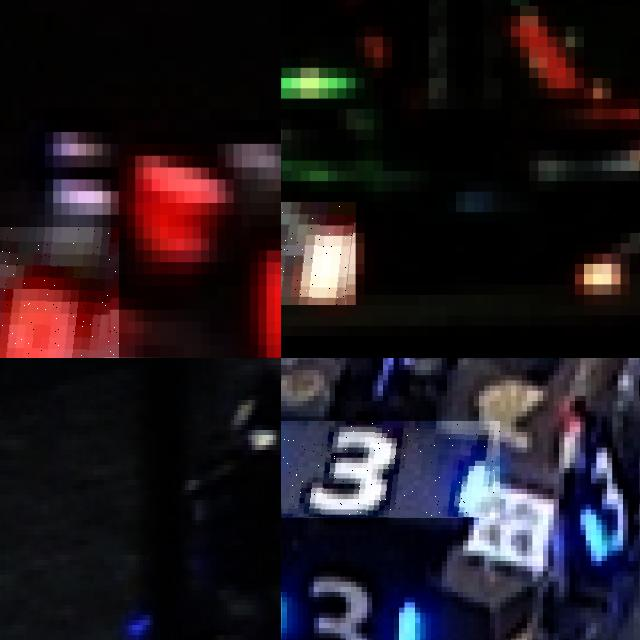B3: (281, 421, 500, 519), (281, 561, 436, 640), (564, 447, 640, 561)
B4: (114, 582, 265, 640)
R5: (0, 227, 118, 358)
Rs: (281, 202, 355, 305)
